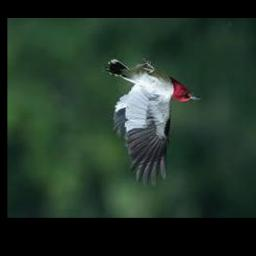Woodpecker: (103, 59, 200, 187)
